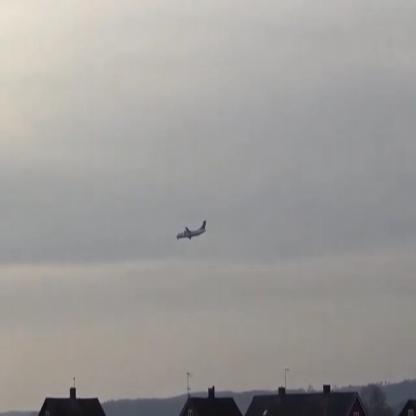CIV_Plane: (176, 221, 206, 242)
